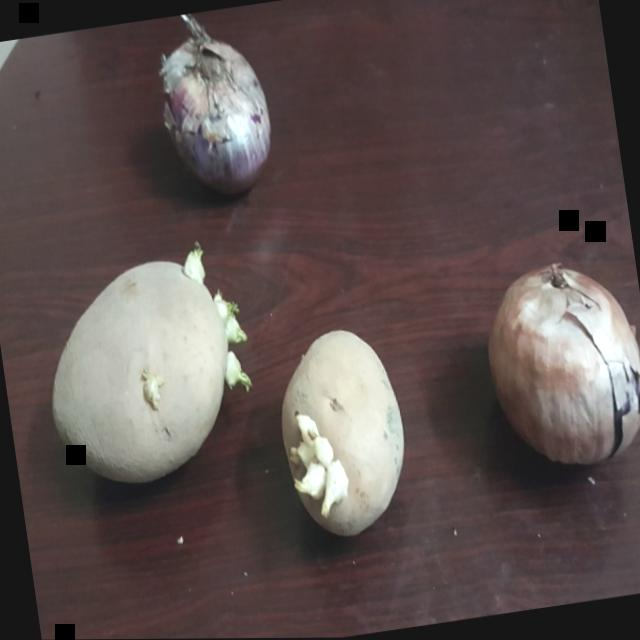onion: (455, 243, 640, 482), (139, 4, 288, 210)
potato: (23, 231, 286, 511), (254, 320, 419, 550)
